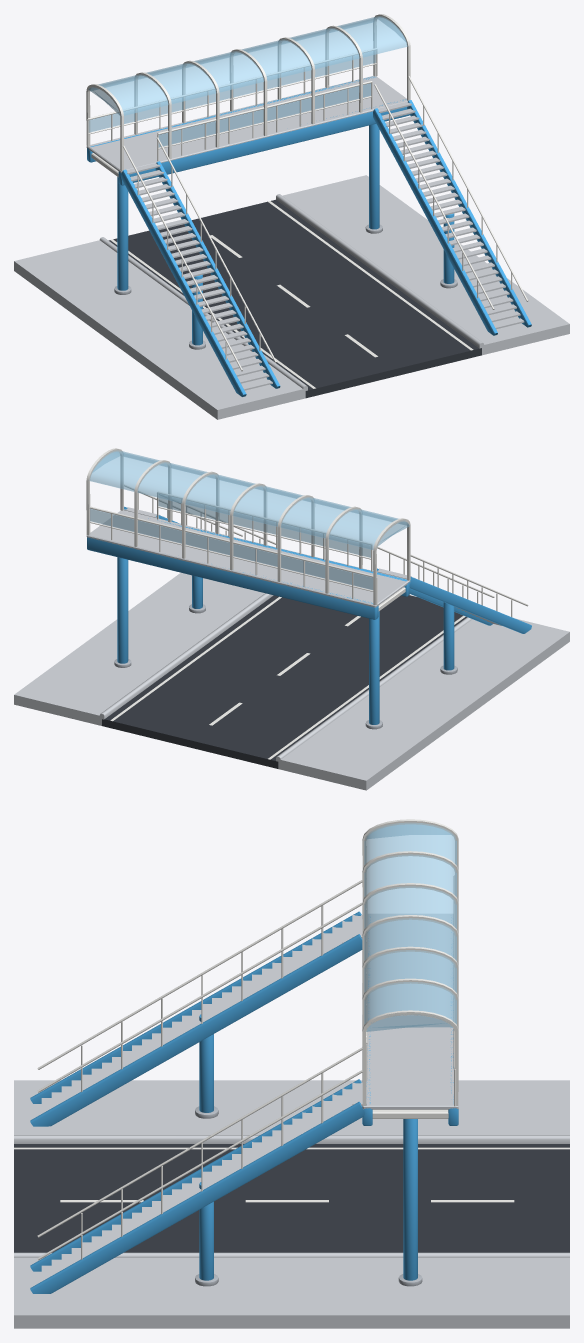
File: ponte_passarela.glb
3 renders of one model, top to bottom at view 1: azimuth 30°, elevation 25°; view 2: azimuth 150°, elevation 25°; view 3: azimuth 270°, elevation 25°, orthographic. The views are drawn at different scales.
Parts seen in each view (by area): view 1: ponte_passarela; view 2: ponte_passarela; view 3: ponte_passarela.
Part boxes in pixels (<box>): ponte_passarela: <box>14,14,569,419</box>; ponte_passarela: <box>14,448,569,790</box>; ponte_passarela: <box>14,819,569,1328</box>.
Bounding box in the file's own units: 15 × 8.8 × 15.
2 materials, 1 textured.
